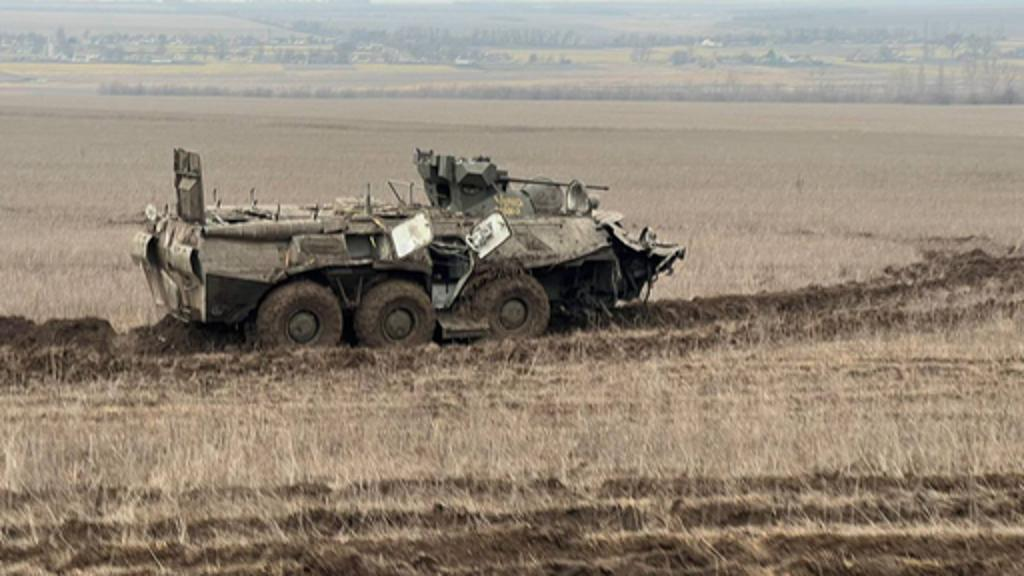APC-IFV: (130, 136, 682, 350)
